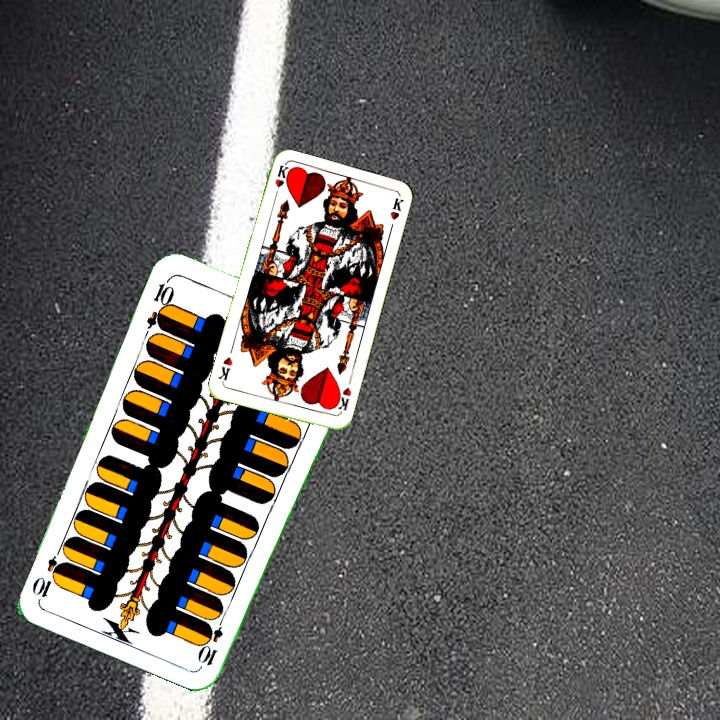E10: (142, 274, 177, 332), (198, 610, 228, 669)
HK: (270, 162, 291, 203), (330, 383, 354, 413)
